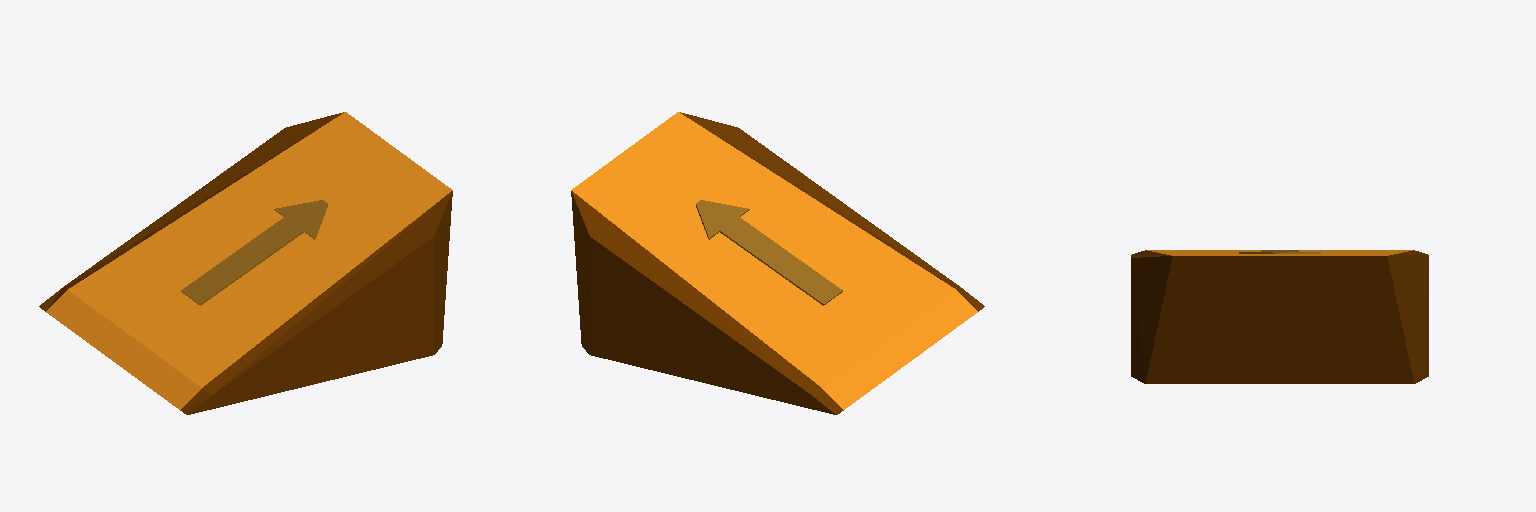
3 renders of one model, left to right at view 1: azimuth 30°, elevation 25°; view 2: azimuth 150°, elevation 25°; view 3: azimuth 270°, elevation 25°, orthographic.
Visible parts, largest first — view 1: Ramp; view 2: Ramp; view 3: Ramp.
Part boxes in pixels (x1,y1,x2,y2): Ramp: (39,112,452,414); Ramp: (571,112,984,414); Ramp: (1131,250,1428,383).
Size of the model in its own units: 1.46 by 0.6831 by 1.31.
Materials: 1 (1 with a texture image).